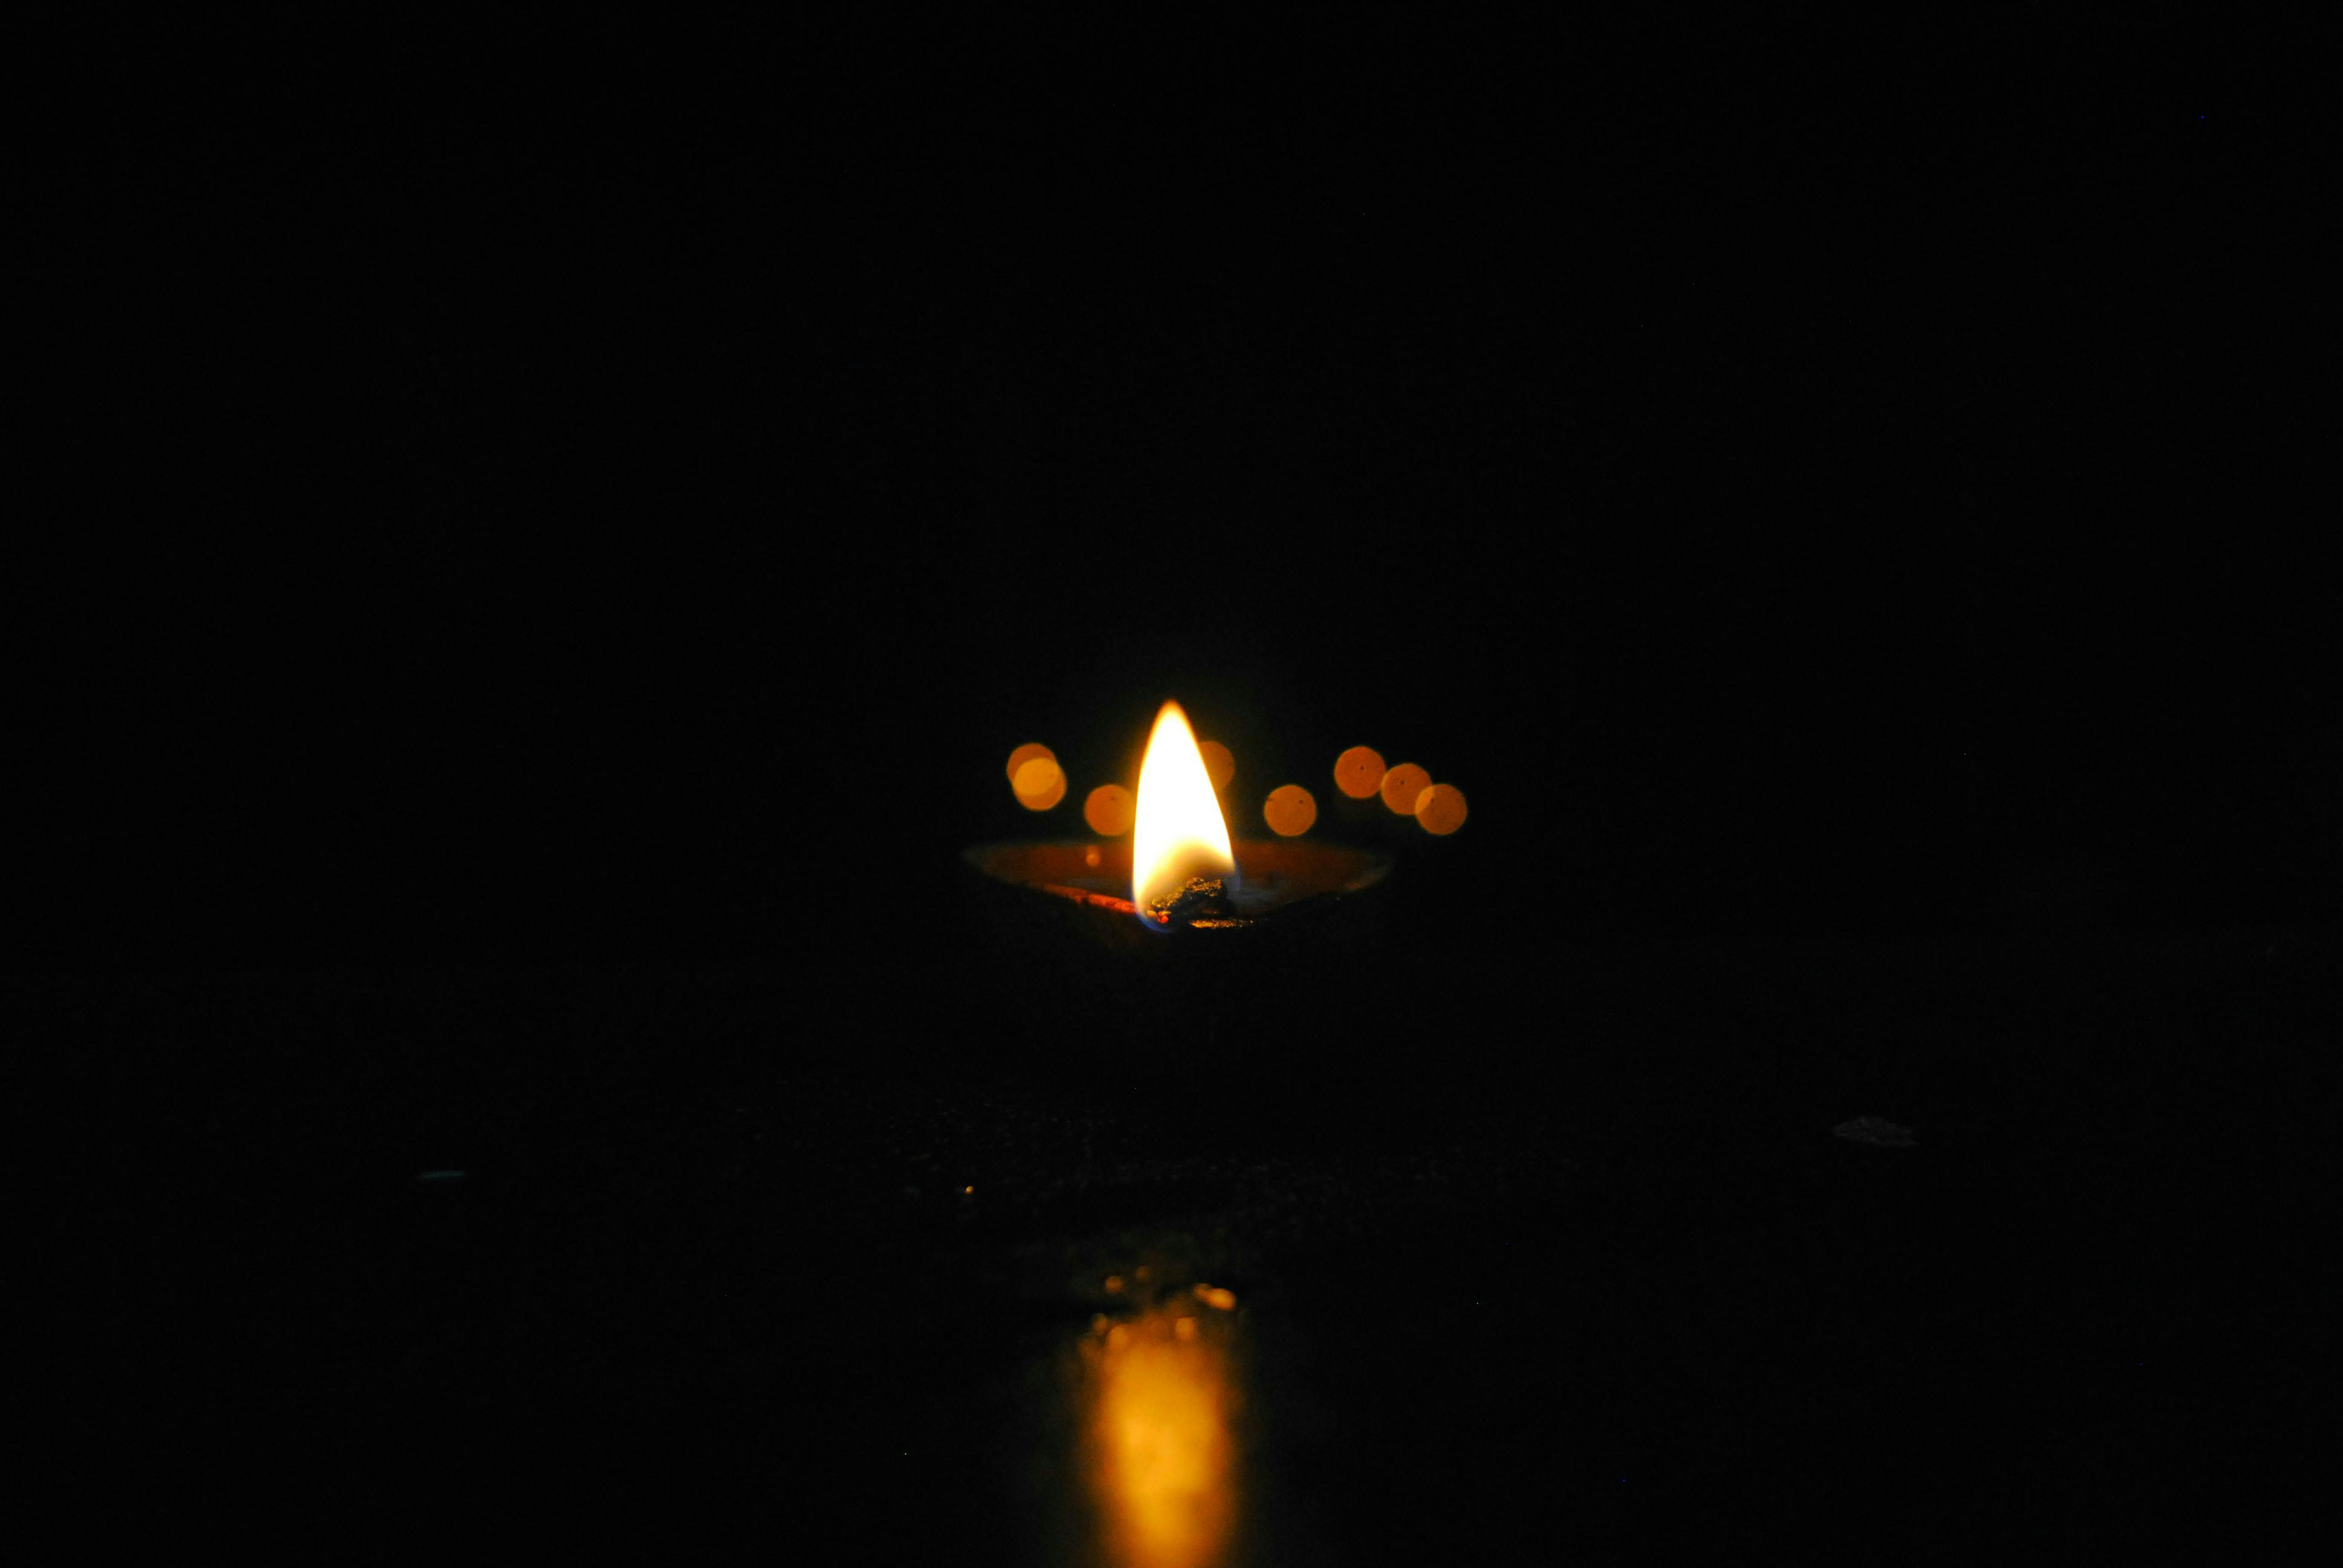Fire: (1108, 684, 1258, 920)
